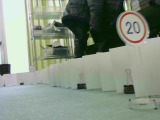speed_20: (113, 9, 151, 46)
